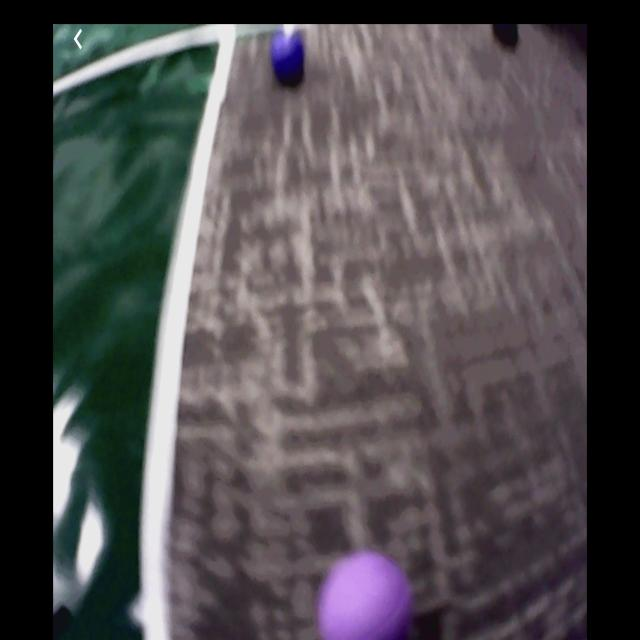ball: (317, 555, 406, 640), (271, 31, 304, 80)
